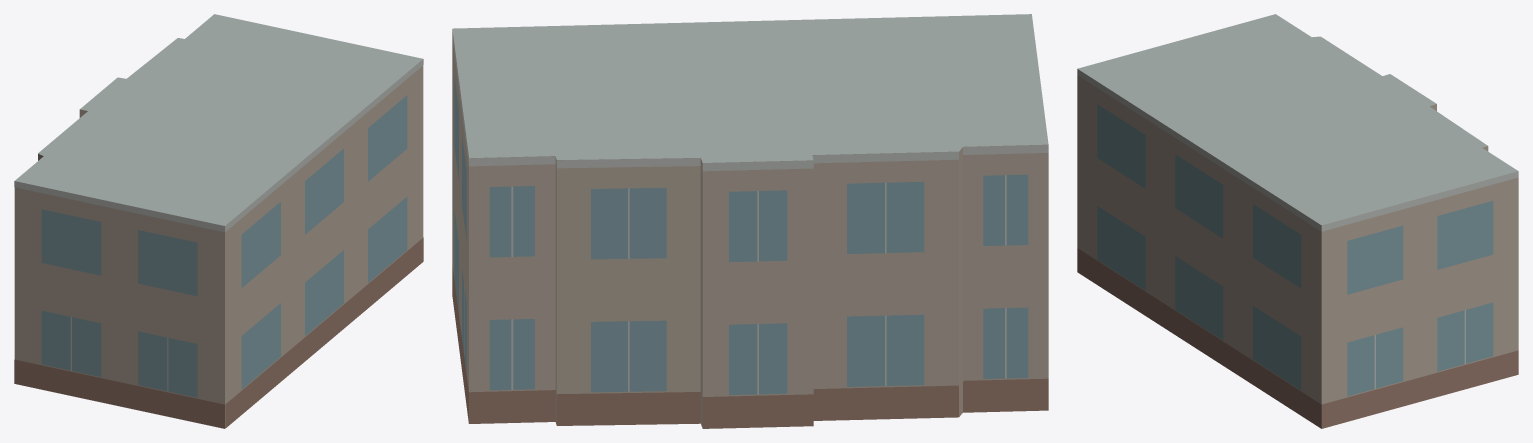
The model's file is survey-upis-32609998.glb.
3 renders of one model, left to right at view 1: azimuth 30°, elevation 25°; view 2: azimuth 150°, elevation 25°; view 3: azimuth 270°, elevation 25°, orthographic. The views are drawn at different scales.
Parts seen in each view (by area): view 1: survey-upis-32609998.tmp; view 2: survey-upis-32609998.tmp; view 3: survey-upis-32609998.tmp.
Part boxes in pixels (bbox=[...]): survey-upis-32609998.tmp: bbox=[14, 14, 423, 428]; survey-upis-32609998.tmp: bbox=[452, 14, 1048, 428]; survey-upis-32609998.tmp: bbox=[1077, 14, 1518, 428].
Size of the model in its own units: 17.62 by 7.9 by 15.54.
